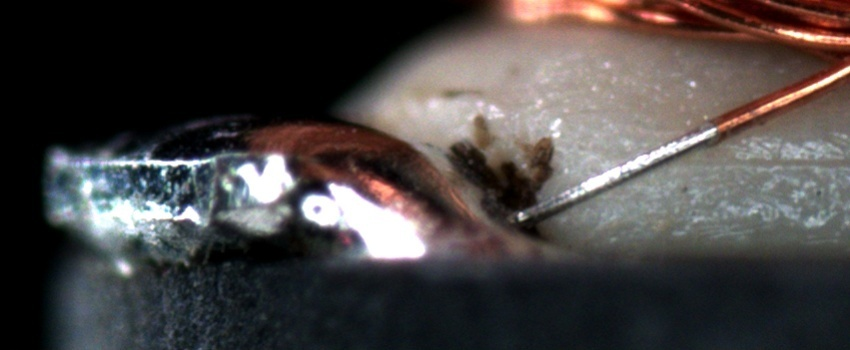CL: (806, 44, 850, 84)
DL: (630, 127, 849, 191)
TS: (504, 123, 719, 226)
